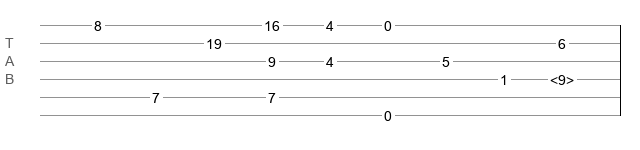0: (384, 18, 392, 28), (384, 108, 392, 118)
1: (500, 72, 508, 82)
16: (264, 18, 280, 28)
19: (206, 36, 222, 46)
4: (326, 18, 334, 28), (326, 54, 334, 64)
5: (442, 54, 450, 64)
6: (558, 36, 566, 46)
7: (152, 90, 160, 100), (268, 90, 276, 100)
8: (94, 18, 102, 28)
9: (268, 54, 276, 64)
harmonic: (550, 72, 574, 82)
